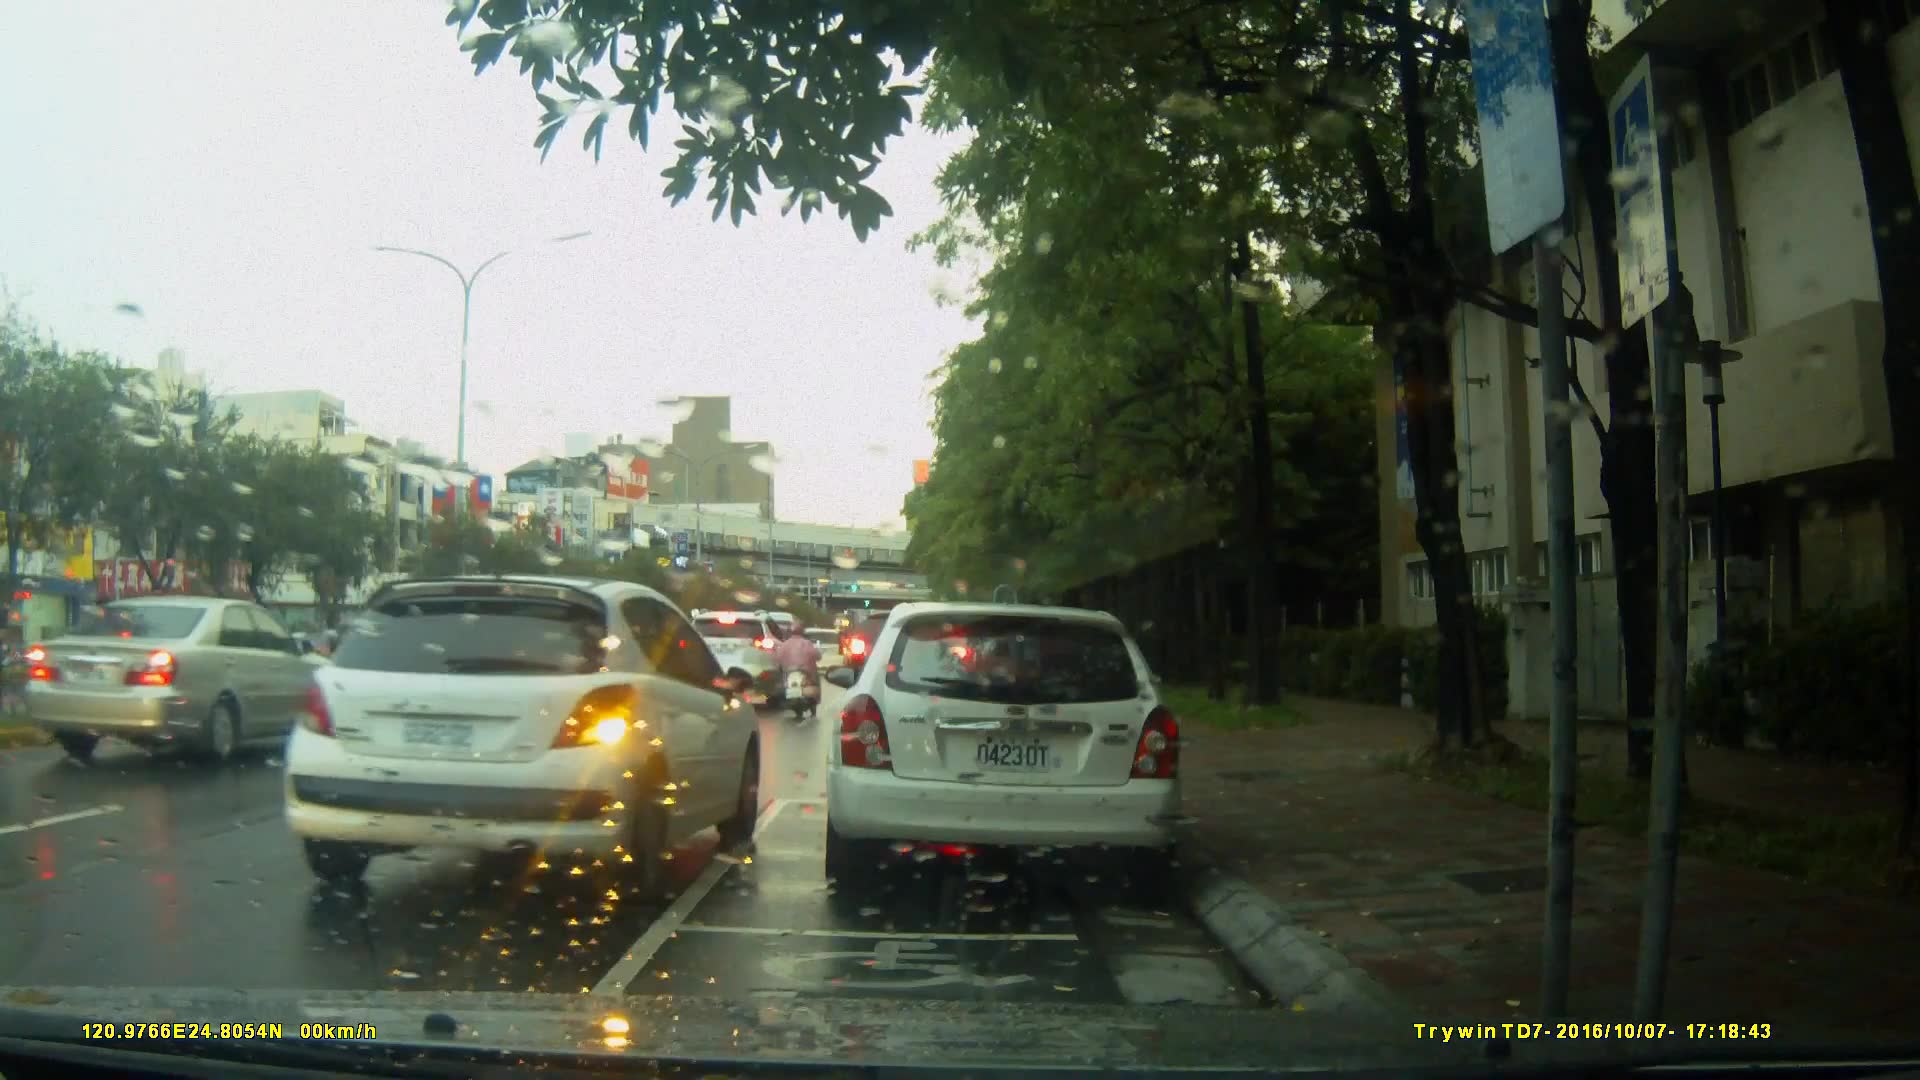rider: (775, 615, 818, 723)
vehicle: (273, 571, 768, 903), (820, 602, 1188, 898), (13, 593, 352, 771), (675, 610, 792, 709)
